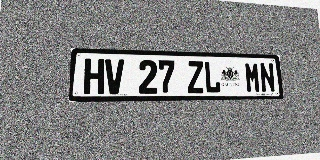2: (139, 60, 157, 94)
7: (157, 60, 175, 94)
H: (84, 58, 104, 94)
L: (204, 61, 221, 93)
M: (244, 62, 261, 93)
N: (259, 62, 276, 93)
V: (105, 59, 124, 94)
Z: (187, 61, 204, 93)
